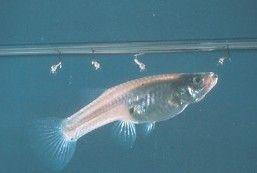Mosquito Fish: (30, 69, 220, 173)
